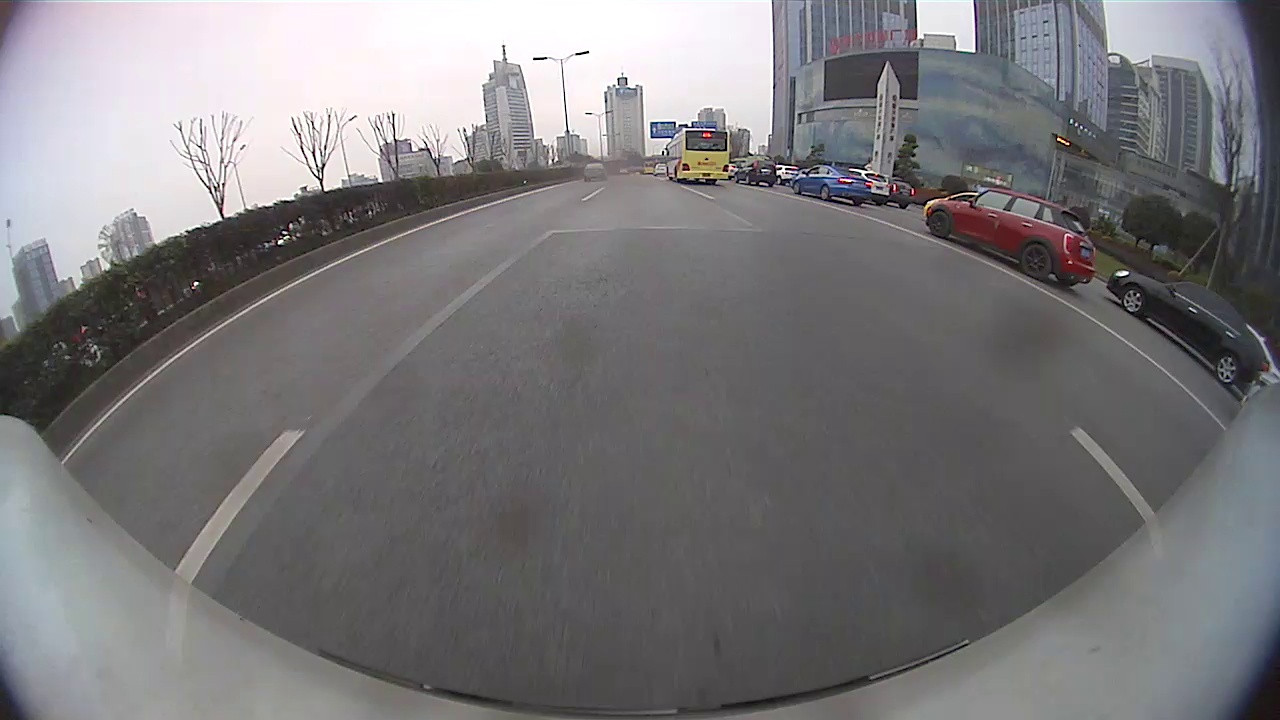bus: (660, 124, 732, 186)
car: (1105, 267, 1272, 389), (924, 187, 1098, 288), (787, 162, 873, 208), (1237, 320, 1279, 400), (732, 153, 779, 190)
front: (925, 210, 953, 240), (1120, 286, 1146, 317), (790, 180, 802, 194)
rear: (1020, 242, 1053, 280), (1215, 355, 1242, 386), (821, 186, 831, 202)
